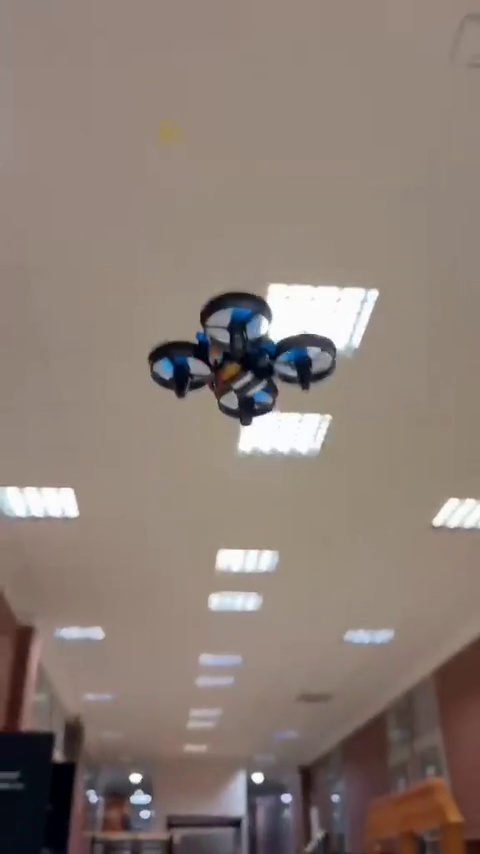drone: (152, 292, 337, 423)
